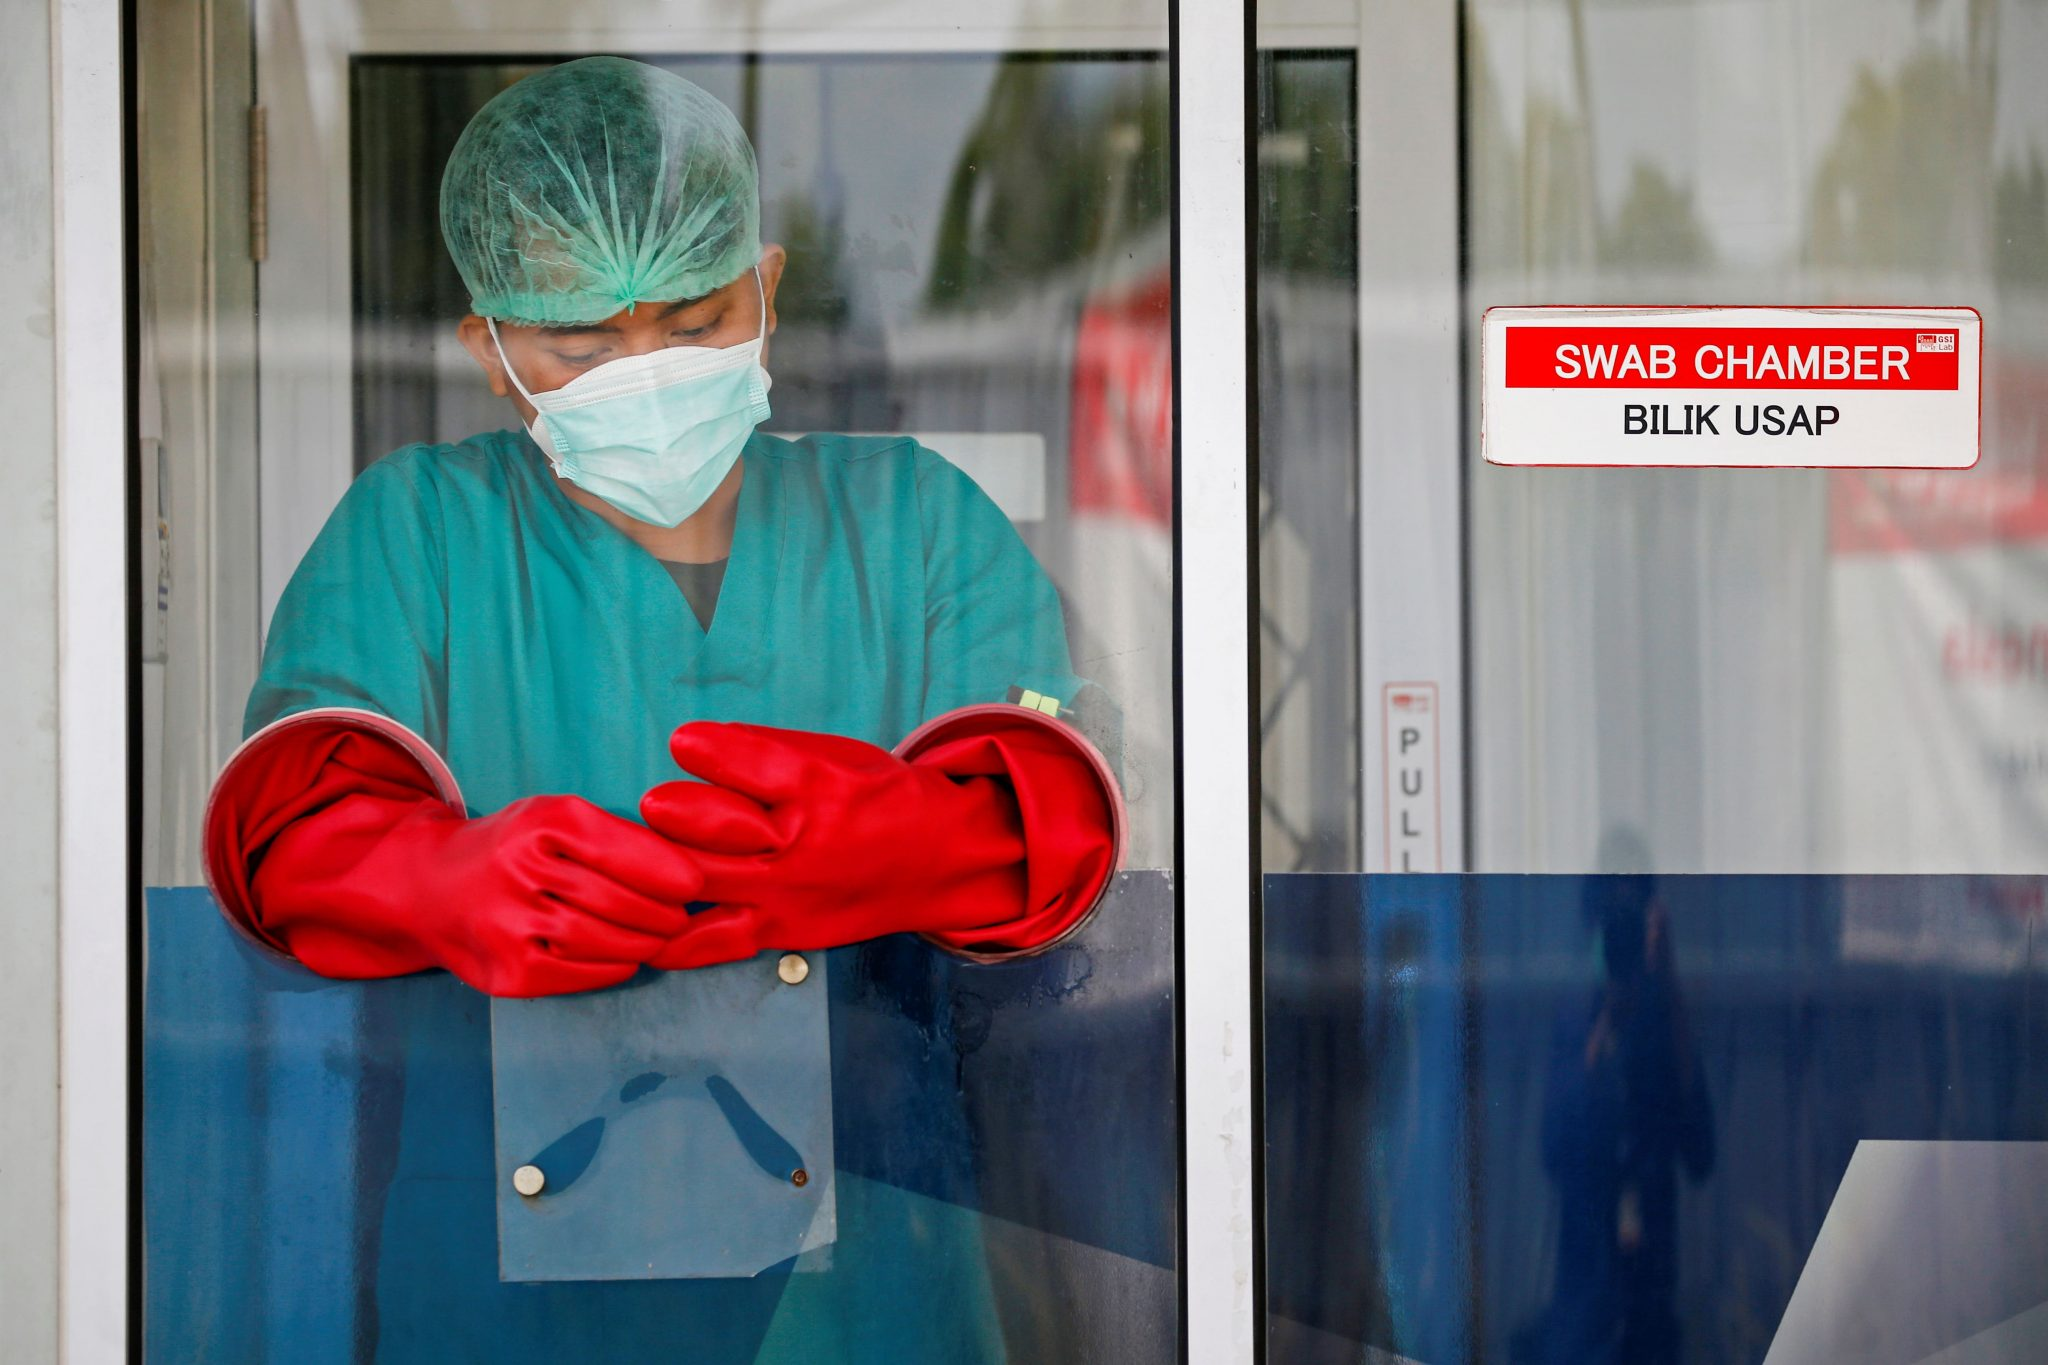Gloves: (637, 705, 955, 978), (386, 786, 678, 1012)
with_mask: (519, 290, 778, 531)
